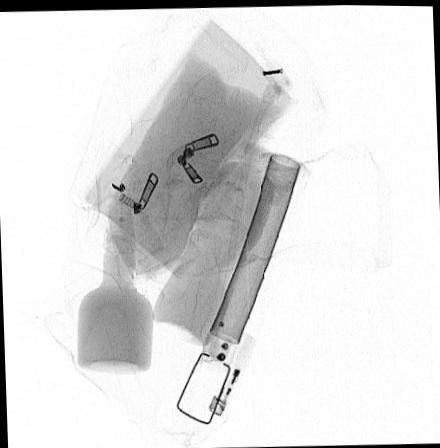Lighter: (206, 331, 252, 416)
